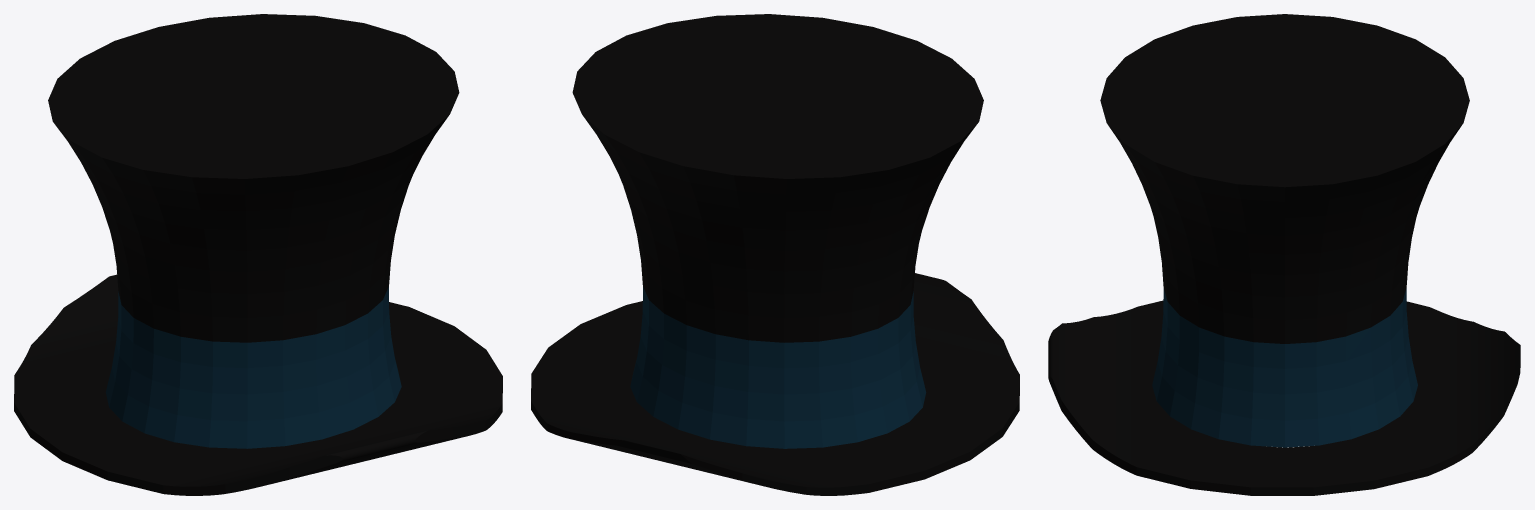
Rendered from hat_black.obj.
The picture shows the model from 3 angles, left to right: view 1: azimuth 30°, elevation 25°; view 2: azimuth 150°, elevation 25°; view 3: azimuth 270°, elevation 25°; orthographic projection. The views are drawn at different scales.
Parts seen in each view (by area): view 1: Component5.004; view 2: Component5.004; view 3: Component5.004.
Boxes of the visible parts, box(x1,y1,x2,y2) form: Component5.004: box(14, 14, 502, 495); Component5.004: box(531, 14, 1019, 495); Component5.004: box(1048, 14, 1520, 495).
Size of the model in its own units: 0.2502 by 0.1704 by 0.2488.
